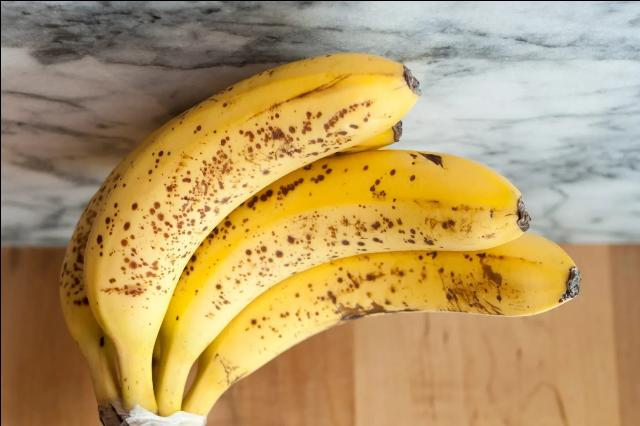Bananas: (59, 52, 578, 424)
